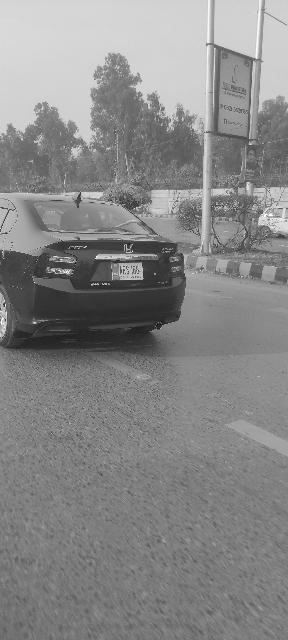Number: (120, 266, 142, 274)
